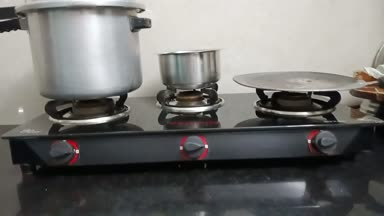flame_gas_off: (262, 91, 342, 154), (46, 100, 121, 162), (164, 88, 221, 161)
